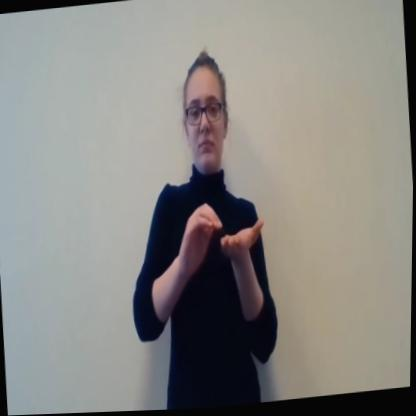ExcuseMe: (116, 44, 285, 412)
